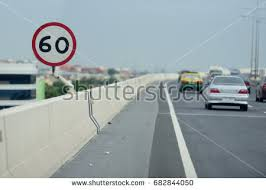Speed_limit_60km: (30, 21, 78, 67)
